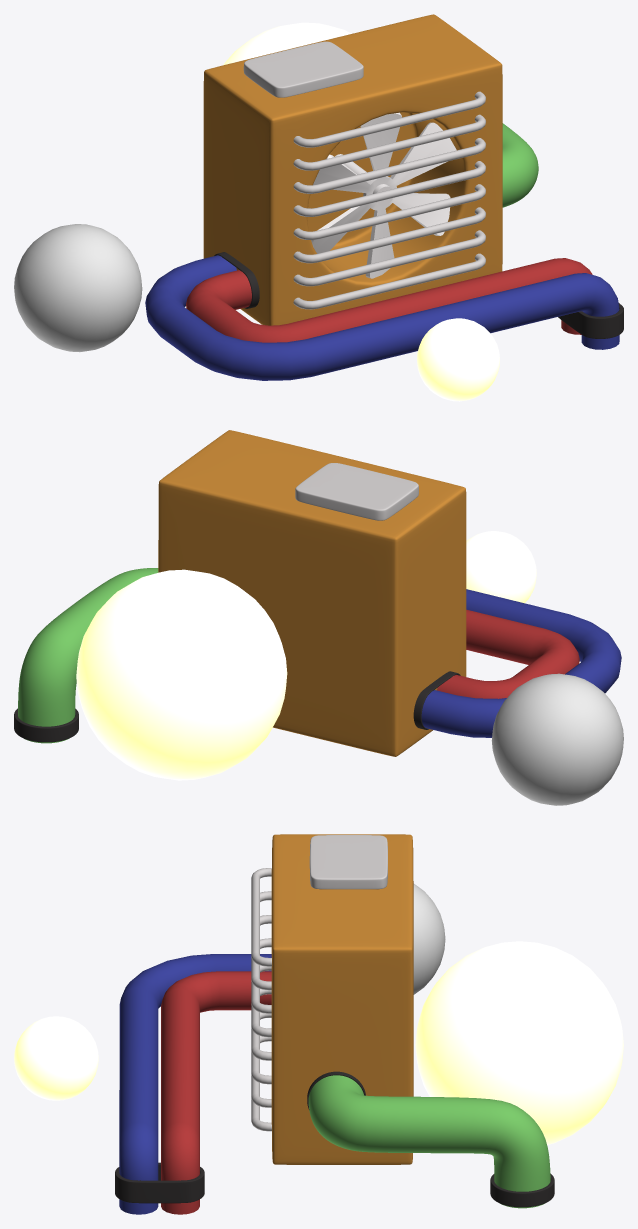
Rendered from kond.glb.
3 views of the same model, one above another, from view 1: azimuth 30°, elevation 25°; view 2: azimuth 150°, elevation 25°; view 3: azimuth 270°, elevation 25° (orthographic). The views are drawn at different scales.
Visible parts, largest first — view 1: korpus, truba m 2, reshotka, Roundcube.001, truba m 1, propeler, Roundcube.002, dekor, Roundcube, truba b, gnezdo trubi 2 trubi m1,m2, gnezdo trubi 1 trubi m1,m2; view 2: korpus, Roundcube, Roundcube.001, truba m 2, truba b, truba m 1, dekor, Roundcube.002, gnezdo trubi 2 truba b, gnezdo trubi 1 trubi m1,m2; view 3: korpus, Roundcube, truba b, truba m 2, truba m 1, Roundcube.002, dekor, reshotka, Roundcube.001, gnezdo trubi 2 trubi m1,m2, gnezdo trubi 2 truba b.
Part boxes in pixels (x1,y1,x2,y2): korpus: (203,14,502,325); truba m 2: (145,255,619,380); reshotka: (293,91,486,309); Roundcube.001: (14,224,142,352); truba m 1: (186,258,592,342); propeler: (311,112,456,278); Roundcube.002: (416,318,499,401); dekor: (243,41,363,97); Roundcube: (223,22,351,65); truba b: (502,123,538,207); gnezdo trubi 2 trubi m1,m2: (558,303,623,338); gnezdo trubi 1 trubi m1,m2: (214,252,259,308); korpus: (158,430,466,756); Roundcube: (76,569,287,780); Roundcube.001: (491,673,623,805); truba m 2: (421,589,621,737); truba b: (18,568,158,743); truba m 1: (437,609,579,698); dekor: (295,463,418,520); Roundcube.002: (466,531,536,603); gnezdo trubi 2 truba b: (14,708,78,742); gnezdo trubi 1 trubi m1,m2: (413,671,460,729); korpus: (271,834,413,1164); Roundcube: (415,941,623,1144); truba b: (308,1075,550,1208); truba m 2: (119,954,271,1214); truba m 1: (161,971,271,1214); Roundcube.002: (14,1016,98,1100); dekor: (309,835,387,889); reshotka: (251,868,271,1131); Roundcube.001: (413,883,445,994); gnezdo trubi 2 trubi m1,m2: (115,1162,204,1203); gnezdo trubi 2 truba b: (490,1173,554,1207).
Size of what is drawn, in the model's own units: 2.46 by 1.15 by 2.51.
